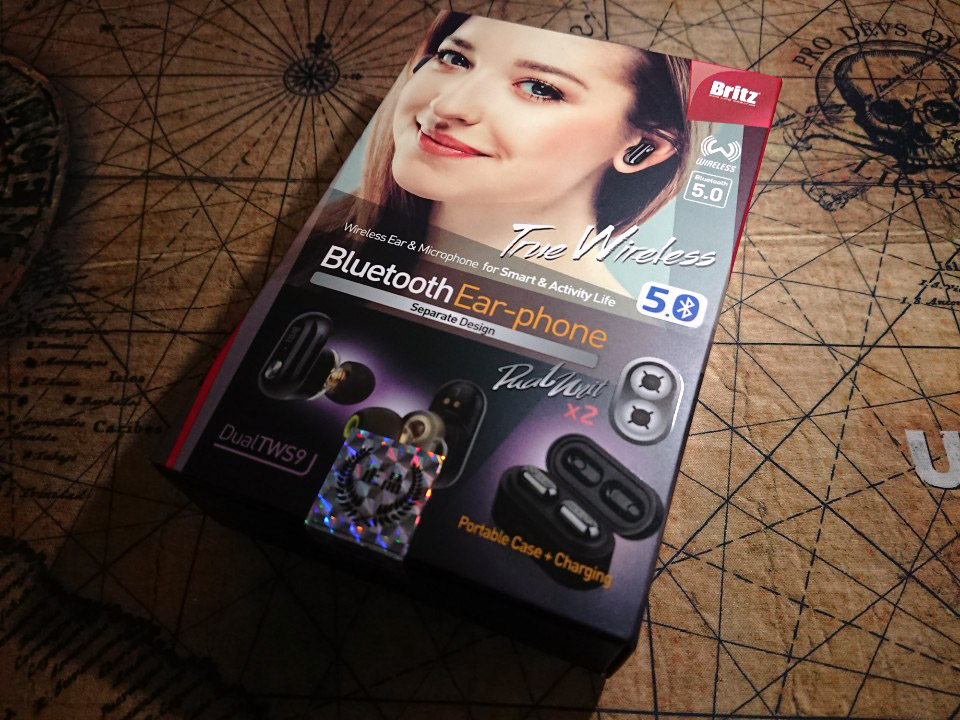earphone: (613, 120, 682, 174)
